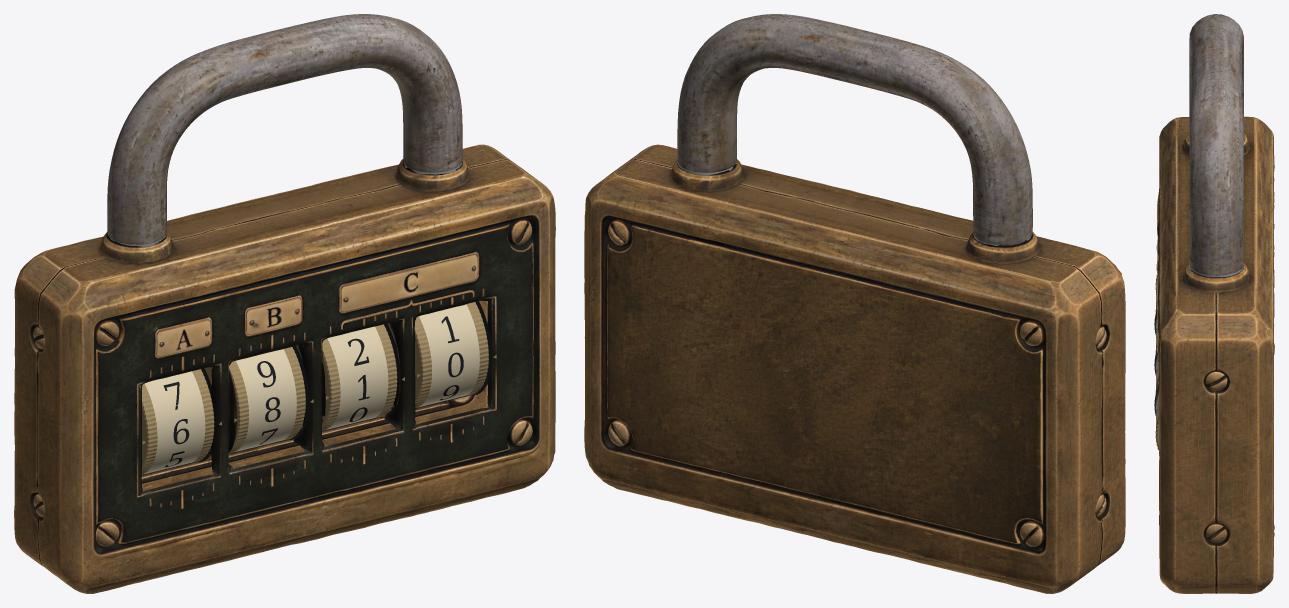
The model's file is Padlock_4Dial_0to9.fbx.
3 views of the same model, side by side, from view 1: azimuth 30°, elevation 25°; view 2: azimuth 150°, elevation 25°; view 3: azimuth 270°, elevation 25° (orthographic). The views are drawn at different scales.
Parts seen in each view (by area): view 1: Body, Shackle, Dial_04, Dial_03, Dial_02, Dial_01; view 2: Body, Shackle; view 3: Body, Shackle, Dial_04.
Boxes of the visible parts, box(x1,y1,x2,y2) form: Body: box(14, 144, 555, 593); Shackle: box(107, 14, 462, 246); Dial_04: box(387, 302, 488, 407); Dial_03: box(296, 324, 397, 430); Dial_02: box(204, 347, 305, 453); Dial_01: box(141, 369, 214, 474); Body: box(584, 144, 1125, 593); Shackle: box(677, 14, 1032, 245); Body: box(1154, 116, 1274, 593); Shackle: box(1189, 14, 1243, 277); Dial_04: box(1155, 389, 1159, 452).
Size of the model in its own units: 0.9773 by 0.9302 by 0.2274.
